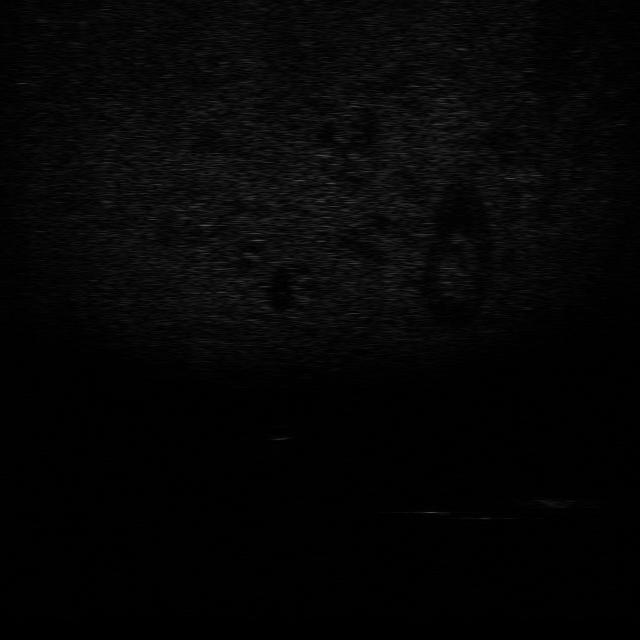ball: (266, 421, 298, 443)
metal bucket: (515, 489, 597, 511)
tyre: (415, 502, 510, 523)
